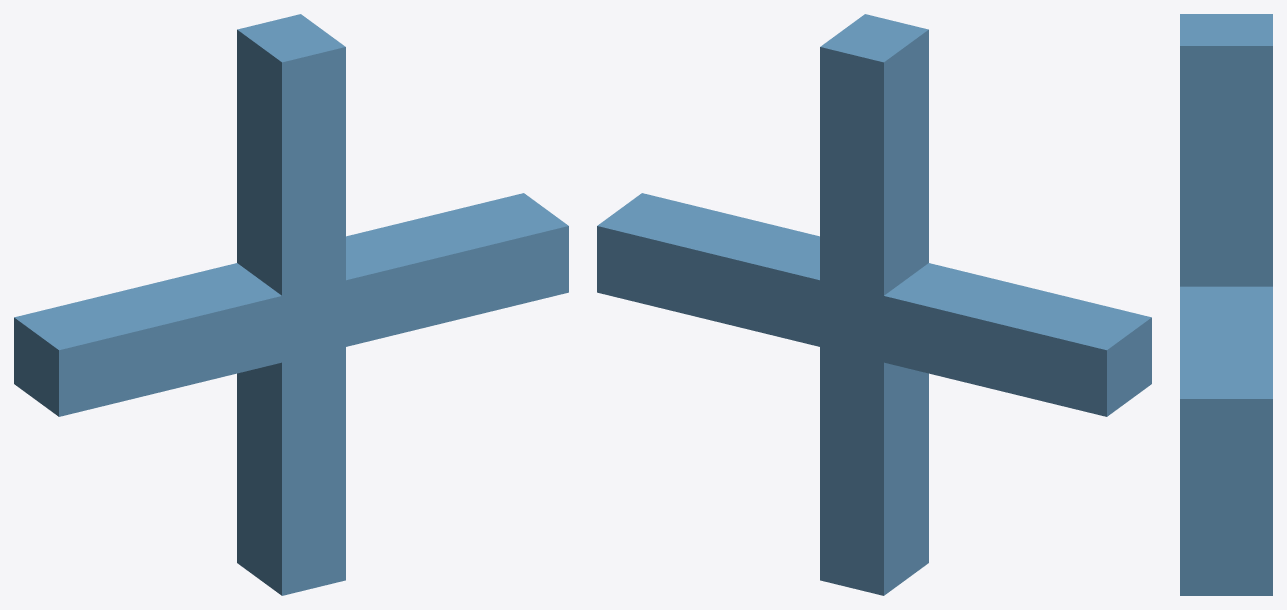
File: blue plus sign.fbx
3 renders of one model, left to right at view 1: azimuth 30°, elevation 25°; view 2: azimuth 150°, elevation 25°; view 3: azimuth 270°, elevation 25°, orthographic. The views are drawn at different scales.
Parts seen in each view (by area): view 1: typeMesh1; view 2: typeMesh1; view 3: typeMesh1.
Part boxes in pixels (bbox=[...]): typeMesh1: bbox=[14, 14, 568, 595]; typeMesh1: bbox=[597, 14, 1151, 595]; typeMesh1: bbox=[1180, 14, 1272, 595].
Size of the model in its own units: 9.82 by 9.82 by 1.5.
